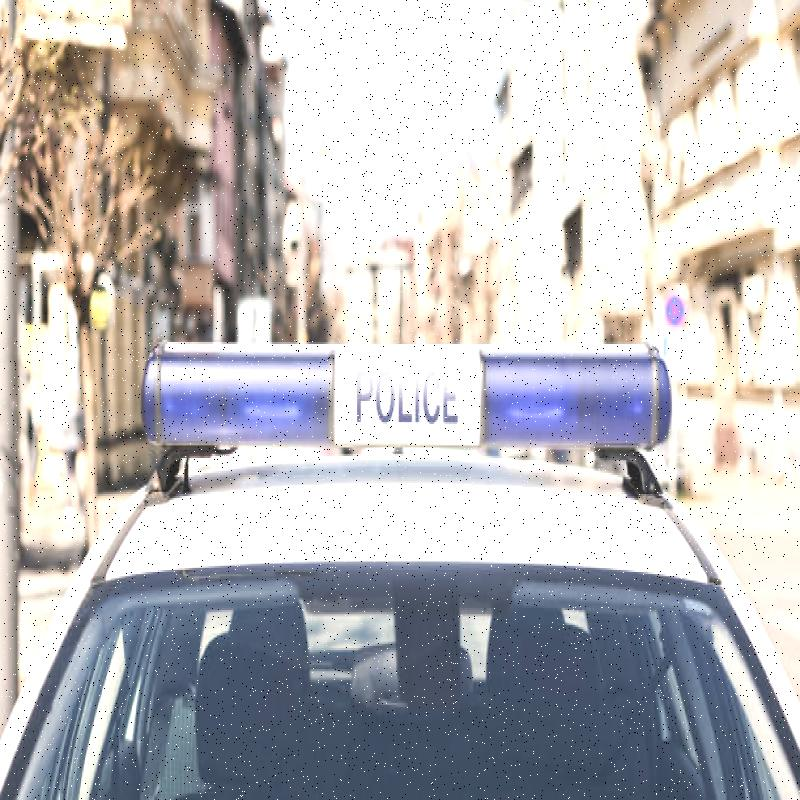AmbulanceSiren: (119, 299, 684, 538)
